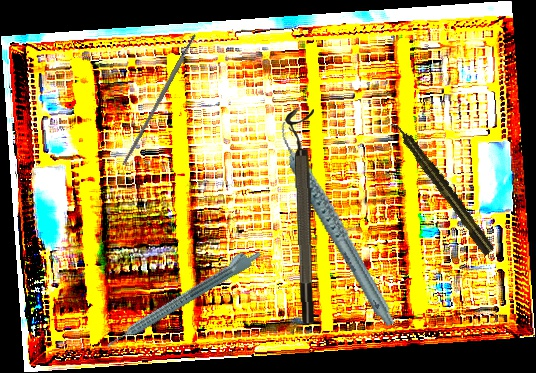Fixation Ring: (285, 107, 318, 326)
Handpiece: (277, 107, 397, 340), (99, 242, 265, 351), (388, 117, 497, 257)
Scalpel Handle: (120, 33, 199, 167)
